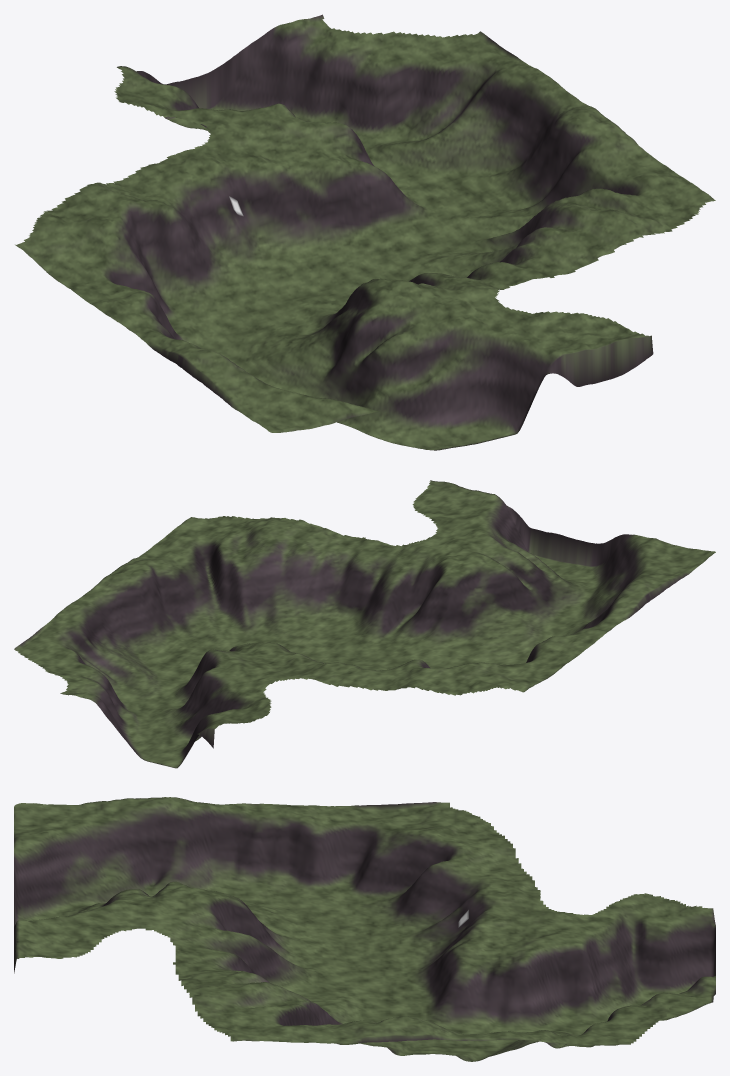
File: valley_terrain.glb
3 views of the same model, one above another, from view 1: azimuth 30°, elevation 25°; view 2: azimuth 150°, elevation 25°; view 3: azimuth 270°, elevation 25° (orthographic). The views are drawn at different scales.
Visible parts, largest first — view 1: ValleyMesh; view 2: ValleyMesh; view 3: ValleyMesh.
Part boxes in pixels (x1,y1,x2,y2): ValleyMesh: (15, 14, 715, 450); ValleyMesh: (14, 480, 715, 768); ValleyMesh: (14, 797, 715, 1061).
Size of the model in its own units: 938 by 119 by 1172.
